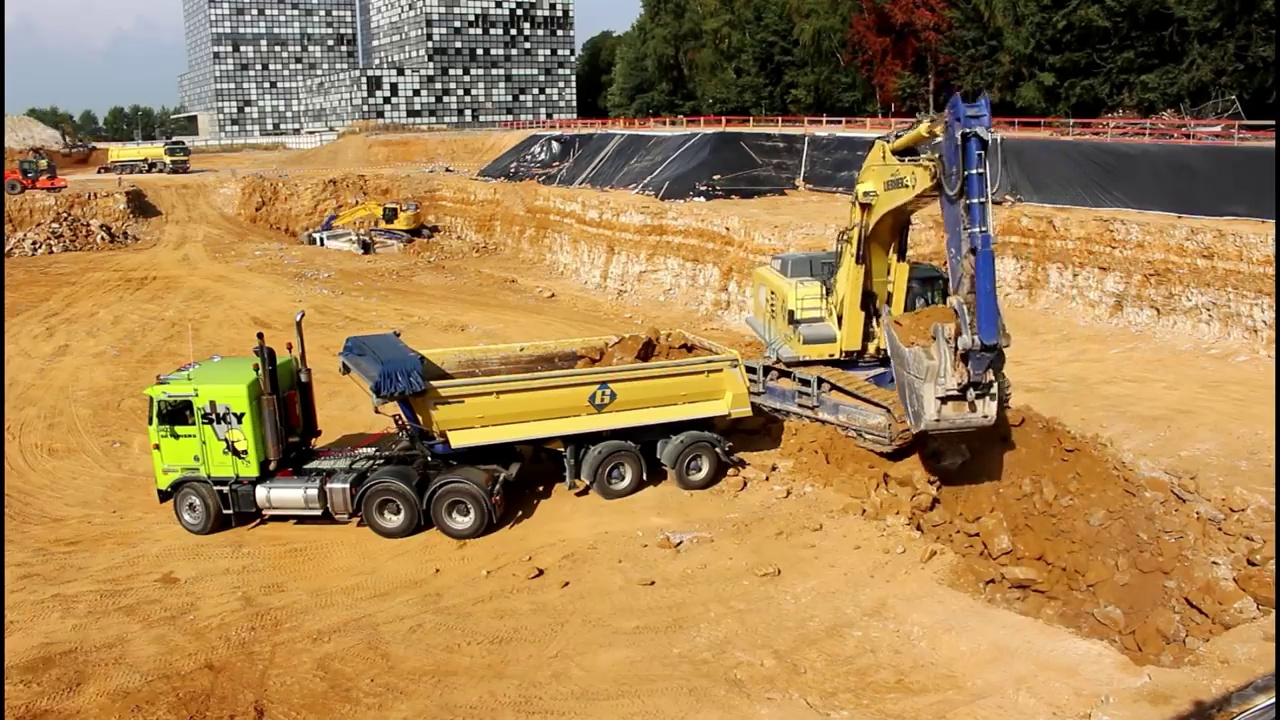compactor: (6, 155, 68, 199)
excavator: (711, 85, 1019, 461), (308, 192, 436, 244), (52, 121, 104, 164)
truck: (137, 306, 759, 547), (305, 221, 402, 281), (98, 130, 194, 179)
